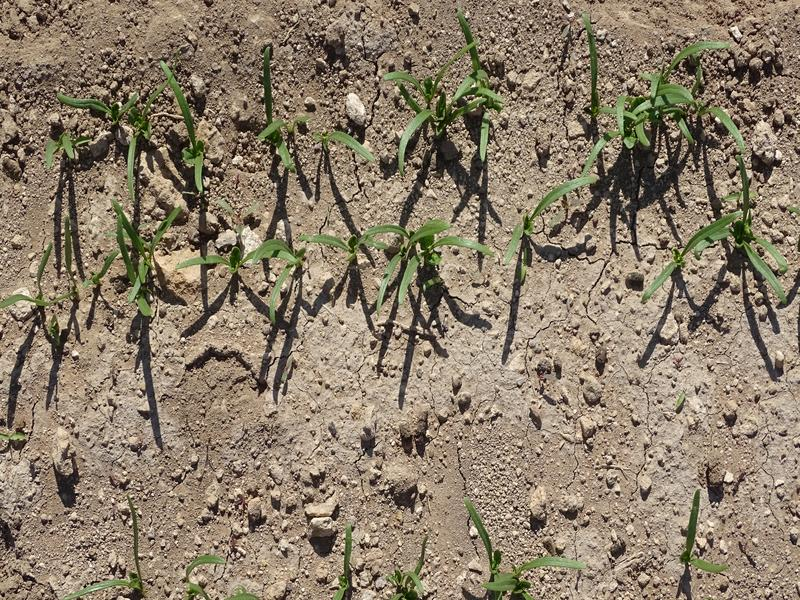Espinaca: (2, 195, 182, 318), (571, 27, 750, 144), (55, 60, 211, 188), (661, 161, 786, 299), (313, 211, 498, 304), (389, 34, 500, 160), (511, 146, 608, 256), (174, 236, 304, 311), (261, 55, 297, 166), (321, 123, 371, 163)
